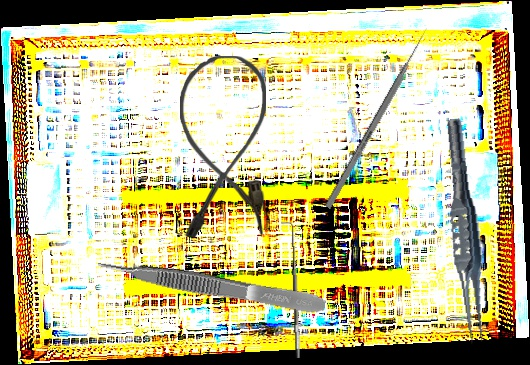Cannula: (180, 56, 266, 237)
Hook Surgical: (280, 220, 303, 359)
Pusher: (324, 26, 431, 210)
Tissue Forceps: (95, 251, 328, 318), (435, 117, 495, 346)
